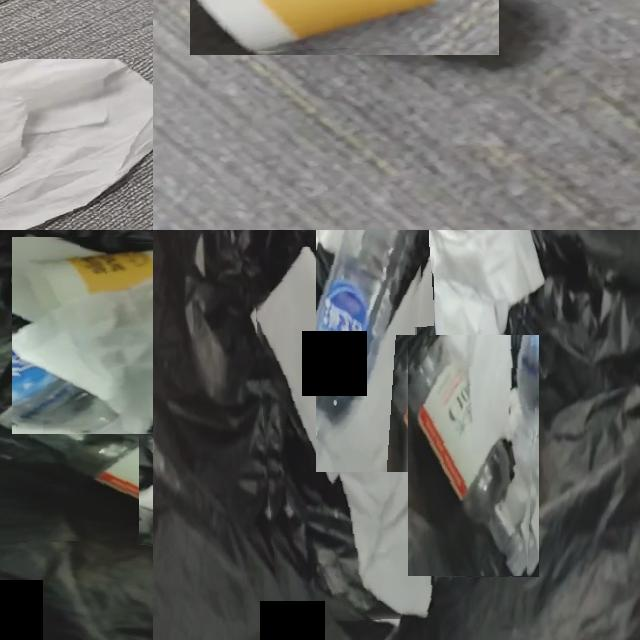bottle: (408, 337, 530, 576), (316, 230, 420, 472), (0, 396, 153, 509)
dixie_cup: (199, 0, 453, 53), (89, 246, 153, 288)
paper: (255, 247, 434, 619), (420, 230, 543, 464), (0, 59, 153, 230), (12, 283, 153, 434), (420, 388, 438, 440), (395, 230, 421, 253)
